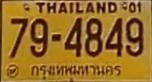4: (64, 17, 81, 56), (105, 17, 122, 56)
7: (10, 17, 28, 57)
8: (84, 17, 101, 56)
9: (29, 17, 47, 56), (125, 17, 143, 56)
BKK: (29, 62, 124, 81)
